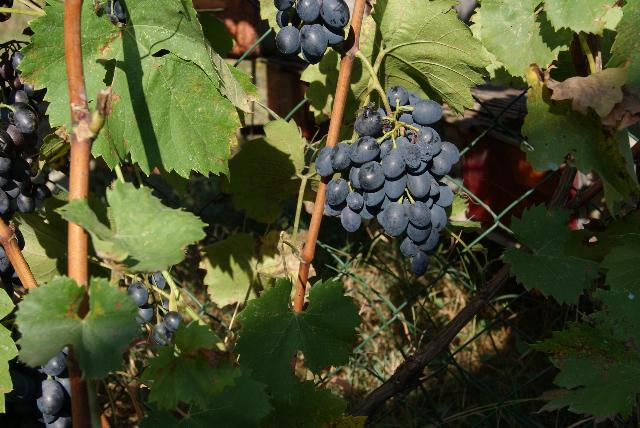grapes: (315, 86, 460, 274)
